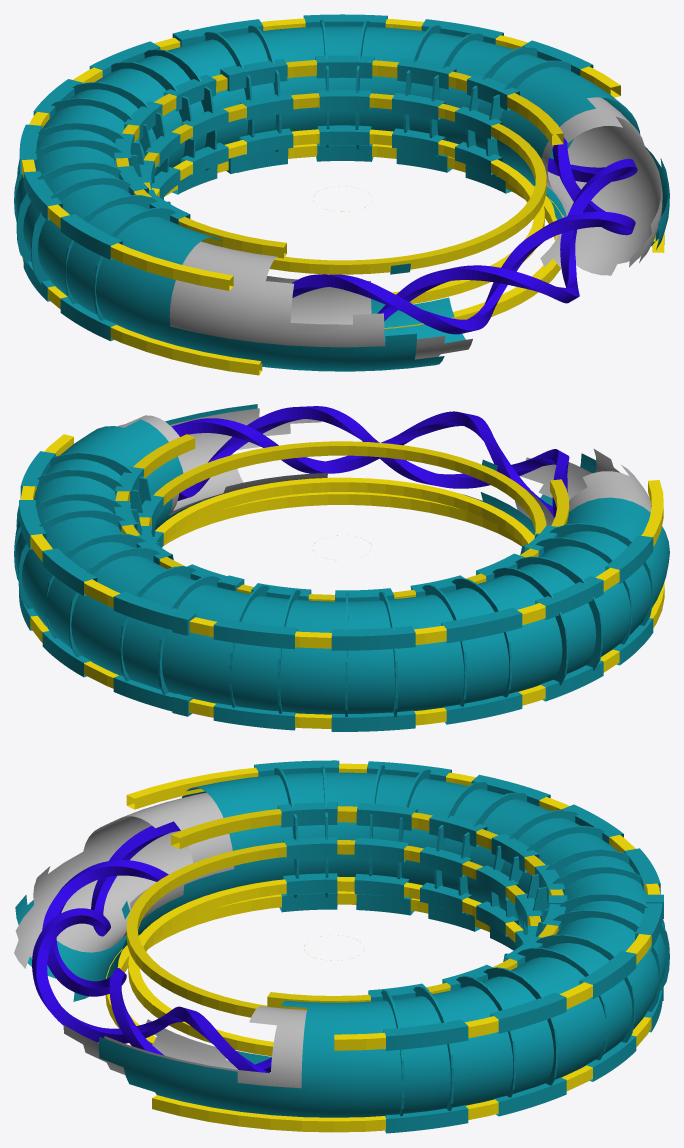
The model's file is LHD0723.glb.
3 renders of one model, top to bottom at view 1: azimuth 30°, elevation 25°; view 2: azimuth 150°, elevation 25°; view 3: azimuth 270°, elevation 25°, orthographic.
Parts seen in each view (by area): view 1: Circle_VacuumVesselOutside, Circle_VacuumVesselInside, Plane_PoloidalCoilUpIn.002, helical_Coil001.001, helical_Coil001, Plane.002, Plane_PoloidalCoilUpOut, Plane_PoloidalCoilUpIn.001, Plane.003, Plane.001, Plane.004, Plane.007 (+17 smaller); view 2: Circle_VacuumVesselOutside, Circle_VacuumVesselInside, Plane_PoloidalCoilUpIn.002, Plane_PoloidalCoilDownIn, helical_Coil001.001, helical_Coil001, Plane_PoloidalCoilUpOut, Plane_PoloidalCoilDownIn.001, Plane.008, Plane.007, Plane.009, Plane_PoloidalCoilDownOut (+17 smaller); view 3: Circle_VacuumVesselOutside, Circle_VacuumVesselInside, helical_Coil001, Plane_PoloidalCoilUpIn.002, Plane_PoloidalCoilDownIn, Plane_PoloidalCoilUpOut, Plane.005, Plane.006, Plane_PoloidalCoilDownOut, helical_Coil001.001, Plane_PoloidalCoilUpIn.001, Plane.009 (+16 smaller).
Boxes of the visible parts, x1,y1,x2,y2 form: Circle_VacuumVesselOutside: [15, 26, 669, 371]; Circle_VacuumVesselInside: [169, 97, 662, 359]; Plane_PoloidalCoilUpIn.002: [144, 93, 546, 274]; helical_Coil001.001: [292, 137, 635, 334]; helical_Coil001: [377, 158, 637, 321]; Plane.002: [303, 14, 387, 161]; Plane_PoloidalCoilUpOut: [21, 18, 620, 290]; Plane_PoloidalCoilUpIn.001: [116, 60, 563, 258]; Plane.003: [392, 19, 503, 172]; Plane.001: [189, 19, 293, 172]; Plane.004: [455, 40, 593, 193]; Plane.007: [89, 41, 228, 194]; Circle_VacuumVesselOutside: [15, 404, 669, 714]; Circle_VacuumVesselInside: [118, 408, 651, 525]; Plane_PoloidalCoilUpIn.002: [139, 441, 546, 538]; Plane_PoloidalCoilDownIn: [155, 477, 534, 545]; helical_Coil001.001: [177, 406, 569, 517]; helical_Coil001: [171, 411, 554, 518]; Plane_PoloidalCoilUpOut: [21, 434, 663, 648]; Plane_PoloidalCoilDownIn.001: [163, 492, 534, 546]; Plane.008: [331, 588, 415, 731]; Plane.007: [213, 583, 311, 730]; Plane.009: [410, 575, 522, 724]; Plane_PoloidalCoilDownOut: [30, 535, 664, 729]; Circle_VacuumVesselOutside: [15, 772, 666, 1117]; Circle_VacuumVesselInside: [14, 792, 306, 1088]; helical_Coil001: [32, 821, 269, 1073]; Plane_PoloidalCoilUpIn.002: [126, 840, 540, 1017]; Plane_PoloidalCoilDownIn: [128, 876, 523, 1056]; Plane_PoloidalCoilUpOut: [126, 763, 660, 1050]; Plane.005: [254, 760, 339, 912]; Plane.006: [354, 761, 451, 915]; Plane_PoloidalCoilDownOut: [152, 935, 651, 1132]; helical_Coil001.001: [42, 860, 271, 1072]; Plane_PoloidalCoilUpIn.001: [171, 806, 563, 1009]; Plane.009: [420, 774, 550, 931].
Size of the model in its own units: 11.04 by 2.26 by 10.83.
